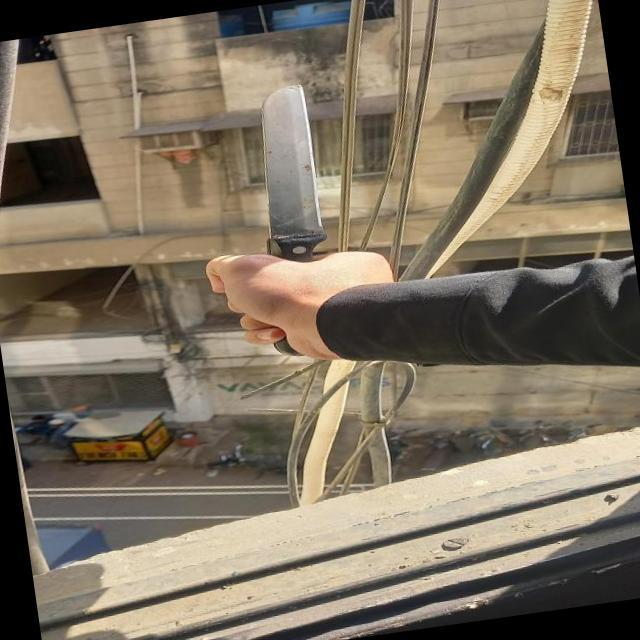Knife: (225, 78, 356, 367)
